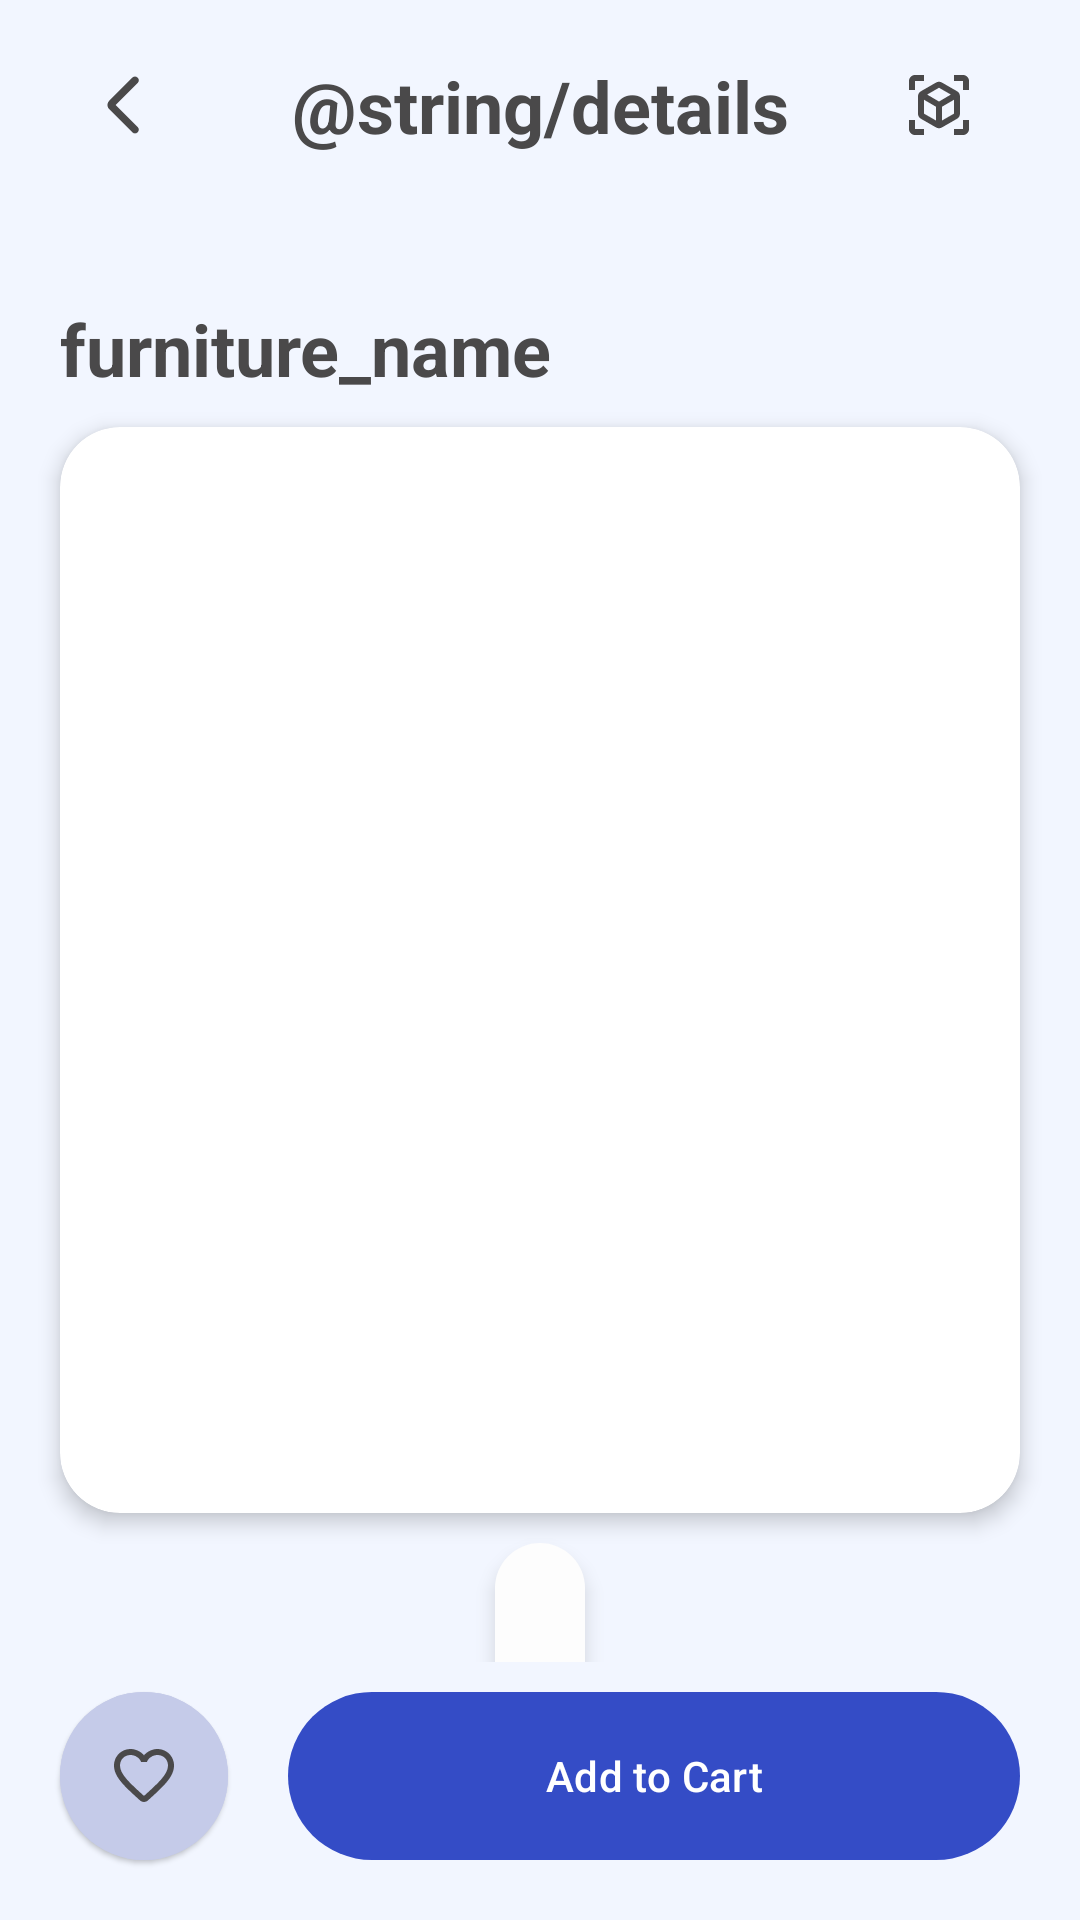

Icons on this 1080 × 1920 Android screen, each with the point to tap as [x,y]:
arrow back: [123,105]
favorite off: [144,1776]
view ar: [939,105]
